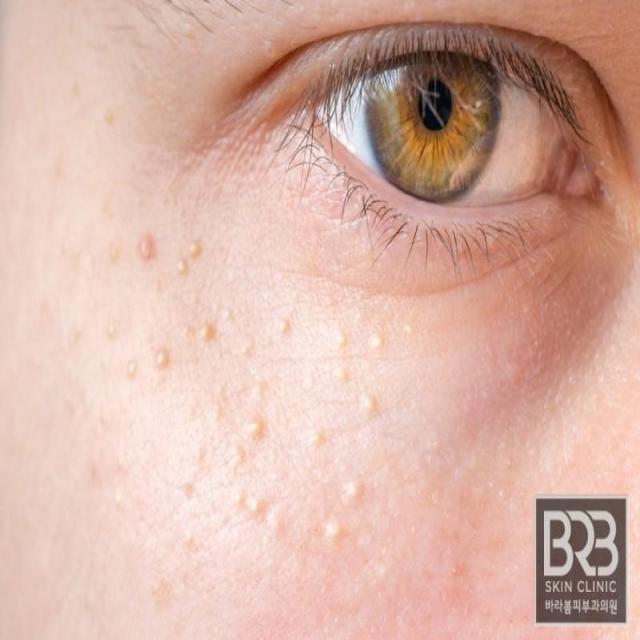milium: (99, 297, 171, 395), (218, 483, 286, 542), (330, 325, 392, 383), (325, 472, 369, 543), (227, 412, 270, 476), (168, 222, 209, 278), (193, 296, 237, 347), (355, 387, 385, 424), (305, 423, 332, 455), (274, 308, 293, 341)
